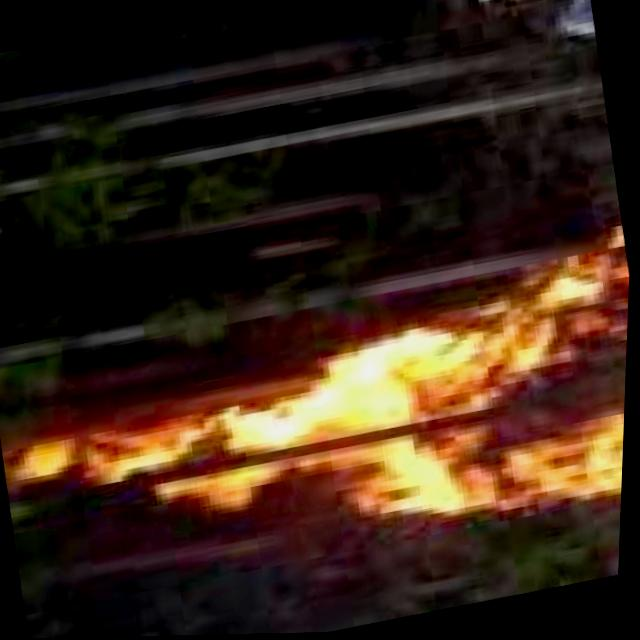fire: (51, 221, 633, 639)
